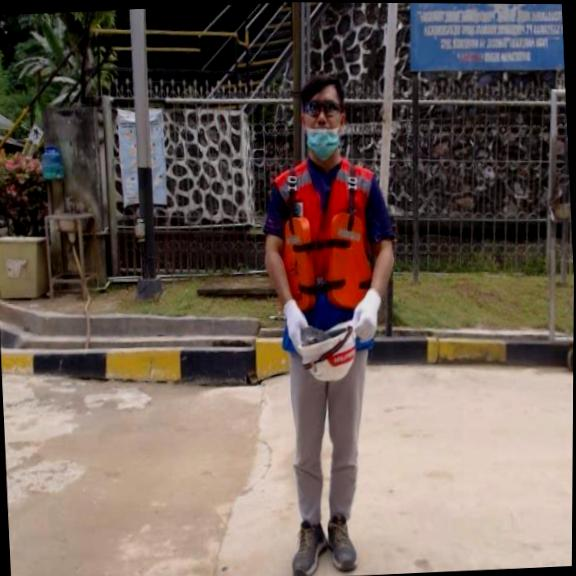safety_vest: (283, 214, 369, 305)
